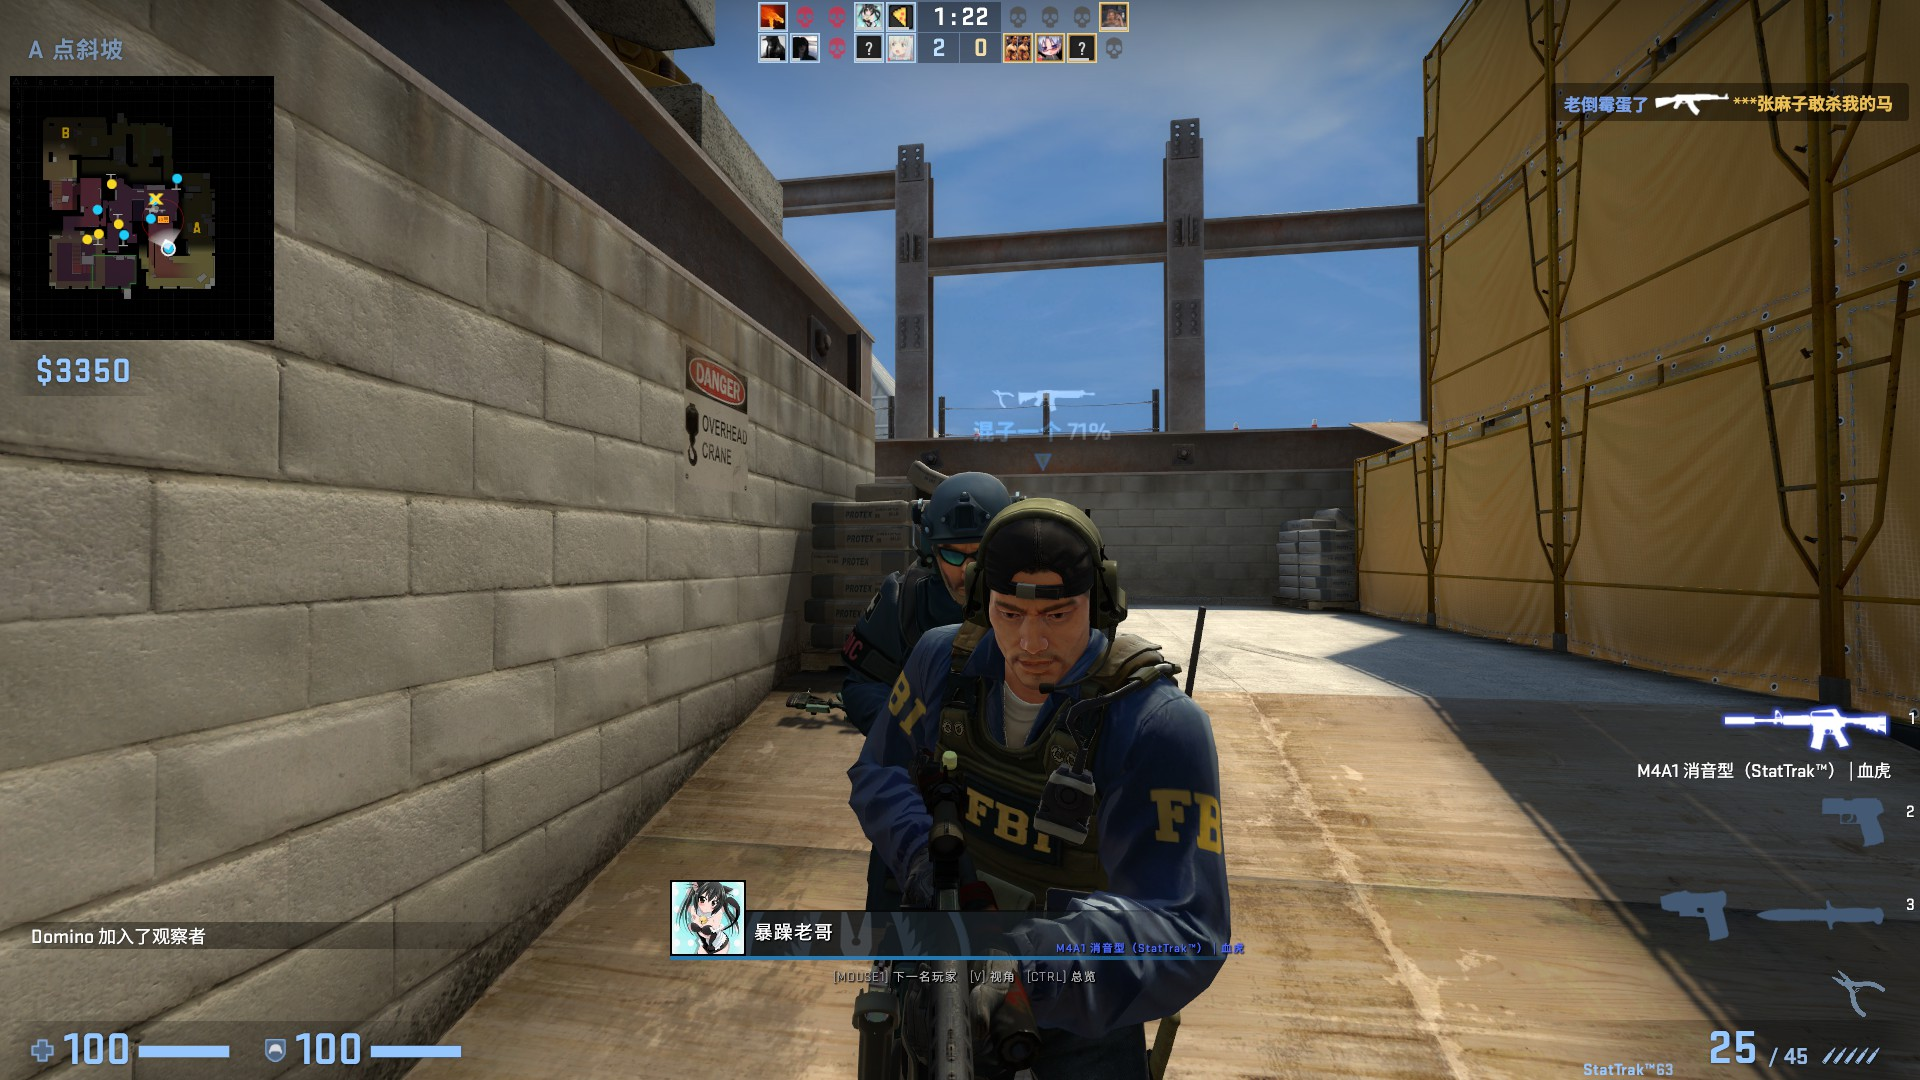head: (989, 496, 1120, 682), (912, 470, 991, 607)
